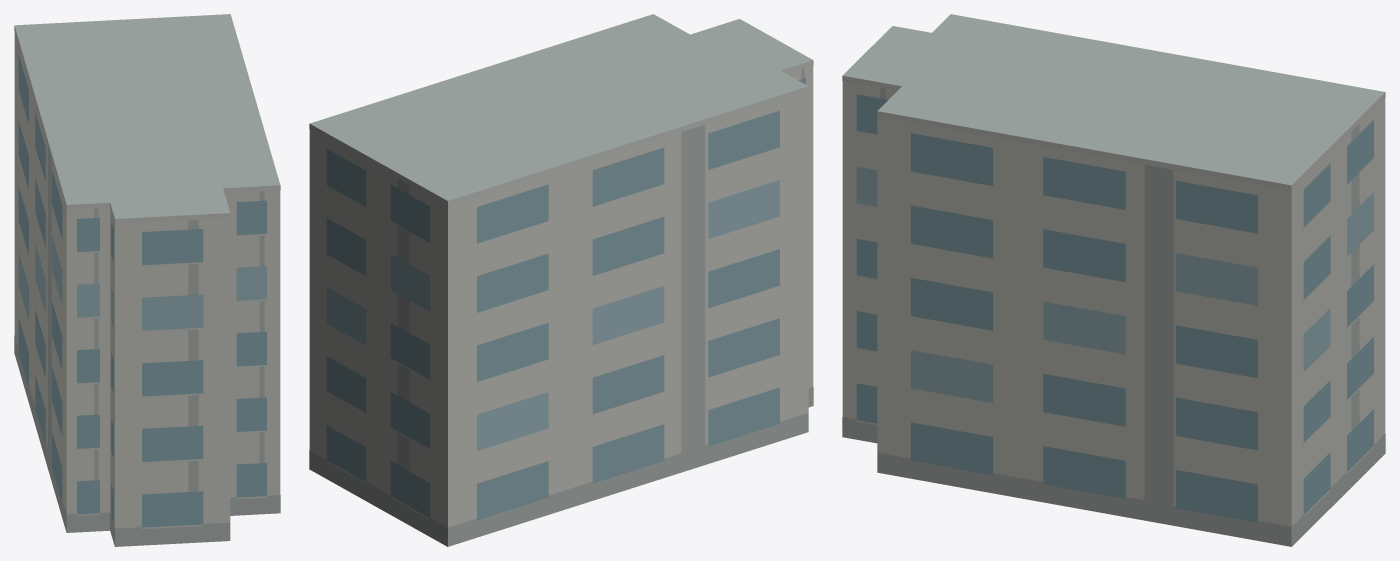
File: residential-44b67e97-65dd-4c03-9dd8-566ee4b44f85.glb
The picture shows the model from 3 angles, left to right: view 1: azimuth 30°, elevation 25°; view 2: azimuth 150°, elevation 25°; view 3: azimuth 270°, elevation 25°; orthographic projection. The views are drawn at different scales.
Visible parts, largest first — view 1: residential-44b67e97-65dd-4c03-9dd8-566ee4b44f85.tmp; view 2: residential-44b67e97-65dd-4c03-9dd8-566ee4b44f85.tmp; view 3: residential-44b67e97-65dd-4c03-9dd8-566ee4b44f85.tmp.
Boxes of the visible parts, left/top/right/bottom form: residential-44b67e97-65dd-4c03-9dd8-566ee4b44f85.tmp: left=14, top=14, right=280, bottom=546; residential-44b67e97-65dd-4c03-9dd8-566ee4b44f85.tmp: left=309, top=14, right=813, bottom=546; residential-44b67e97-65dd-4c03-9dd8-566ee4b44f85.tmp: left=842, top=14, right=1385, bottom=546.
Bounding box in the file's own units: 15.52 × 15.25 × 20.77.
